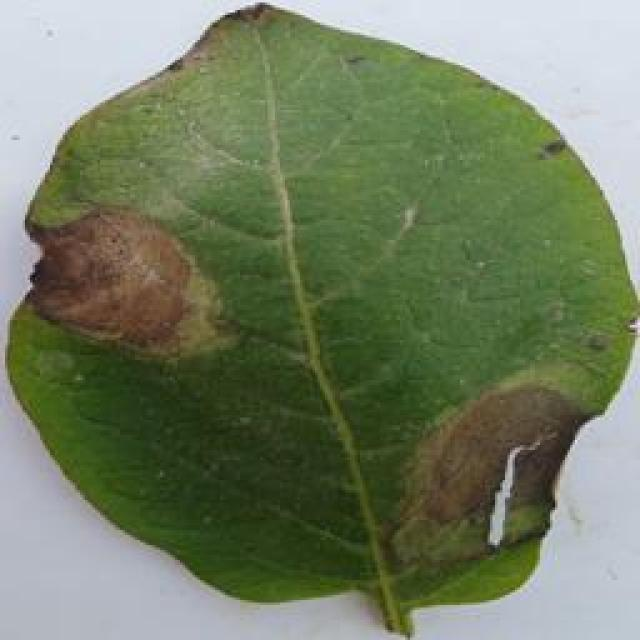Potato_Late_Blight: (9, 7, 629, 633)
